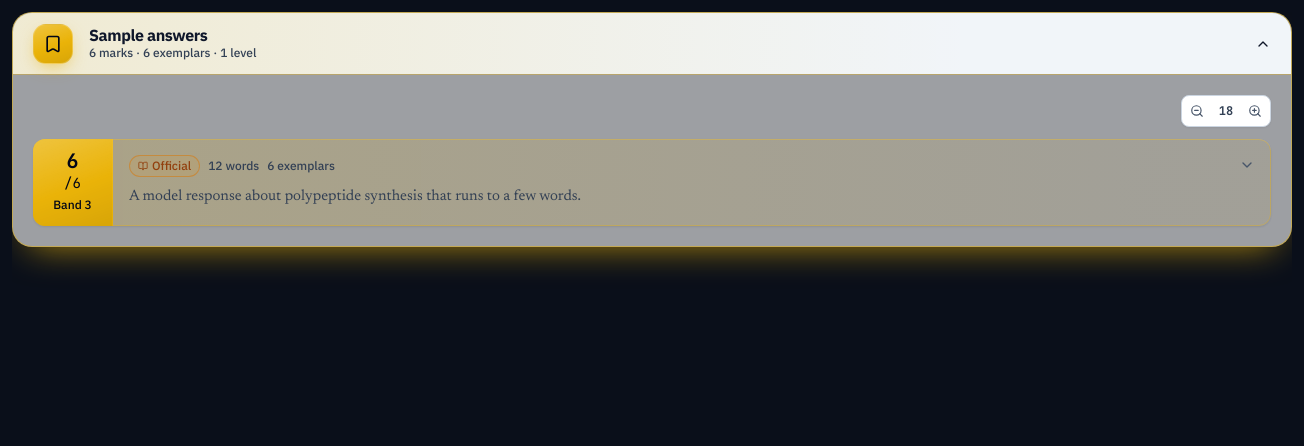
Test: many exemplars at one mark › folds the tail away rather than spending four rows on chips
The image size is (1304, 446).
What coordinates should you click on to do the following:
click the button named "6/6 Marks"
I would click on:
 (180, 166)
Its box is [113,139,1271,226].
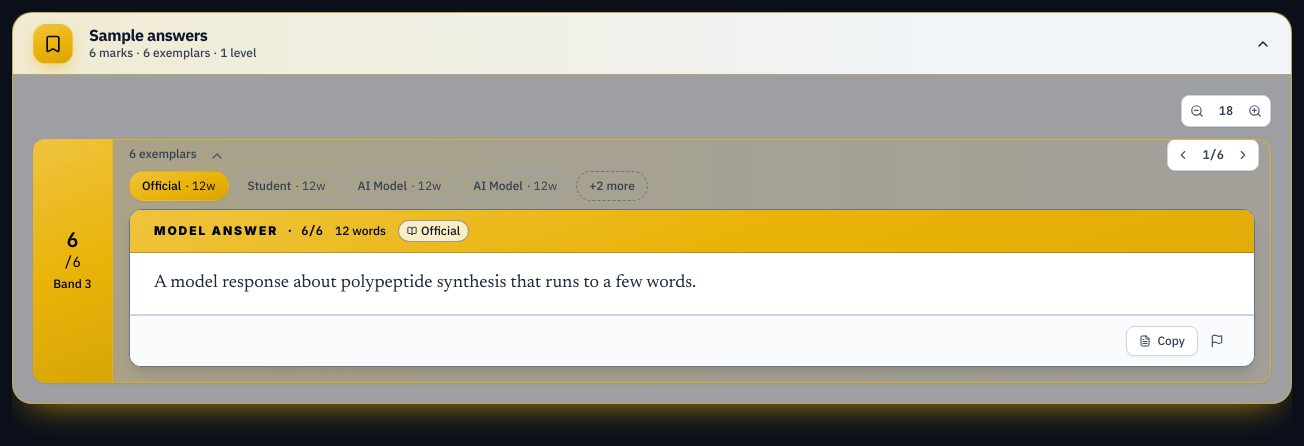
Check: the number of tabs is 4, box [129,171,228,201]; [234,171,338,201]; [344,171,454,201]; [460,171,570,201]
What coordinates should you click on to do the following:
click the button "+2 more"
I would click on:
 (612, 186)
Its box is [576,171,648,201].
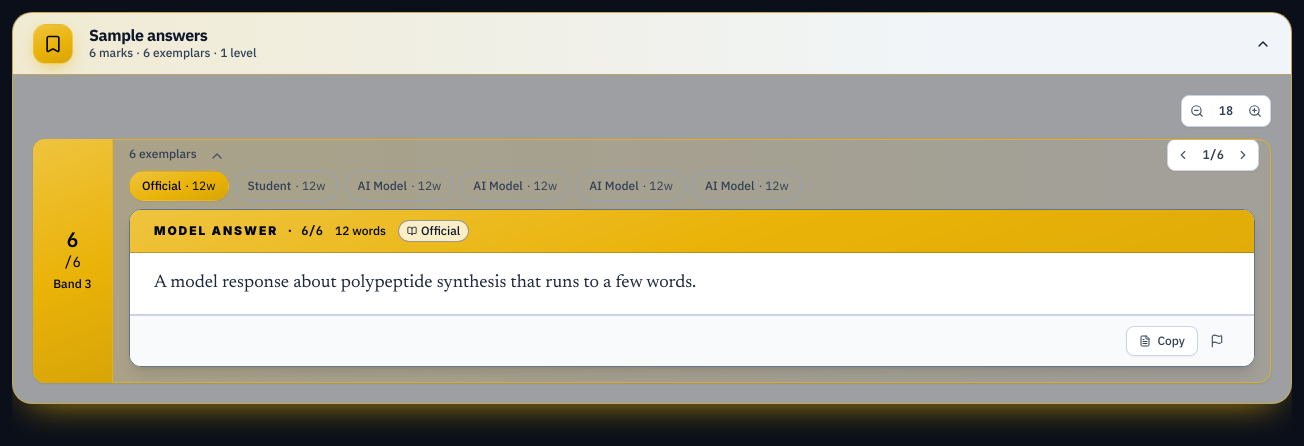
Check: the number of tabs is 6, box [129,171,228,201]; [234,171,338,201]; [344,171,454,201]; [460,171,570,201]; [576,171,686,201]; [692,171,802,201]
